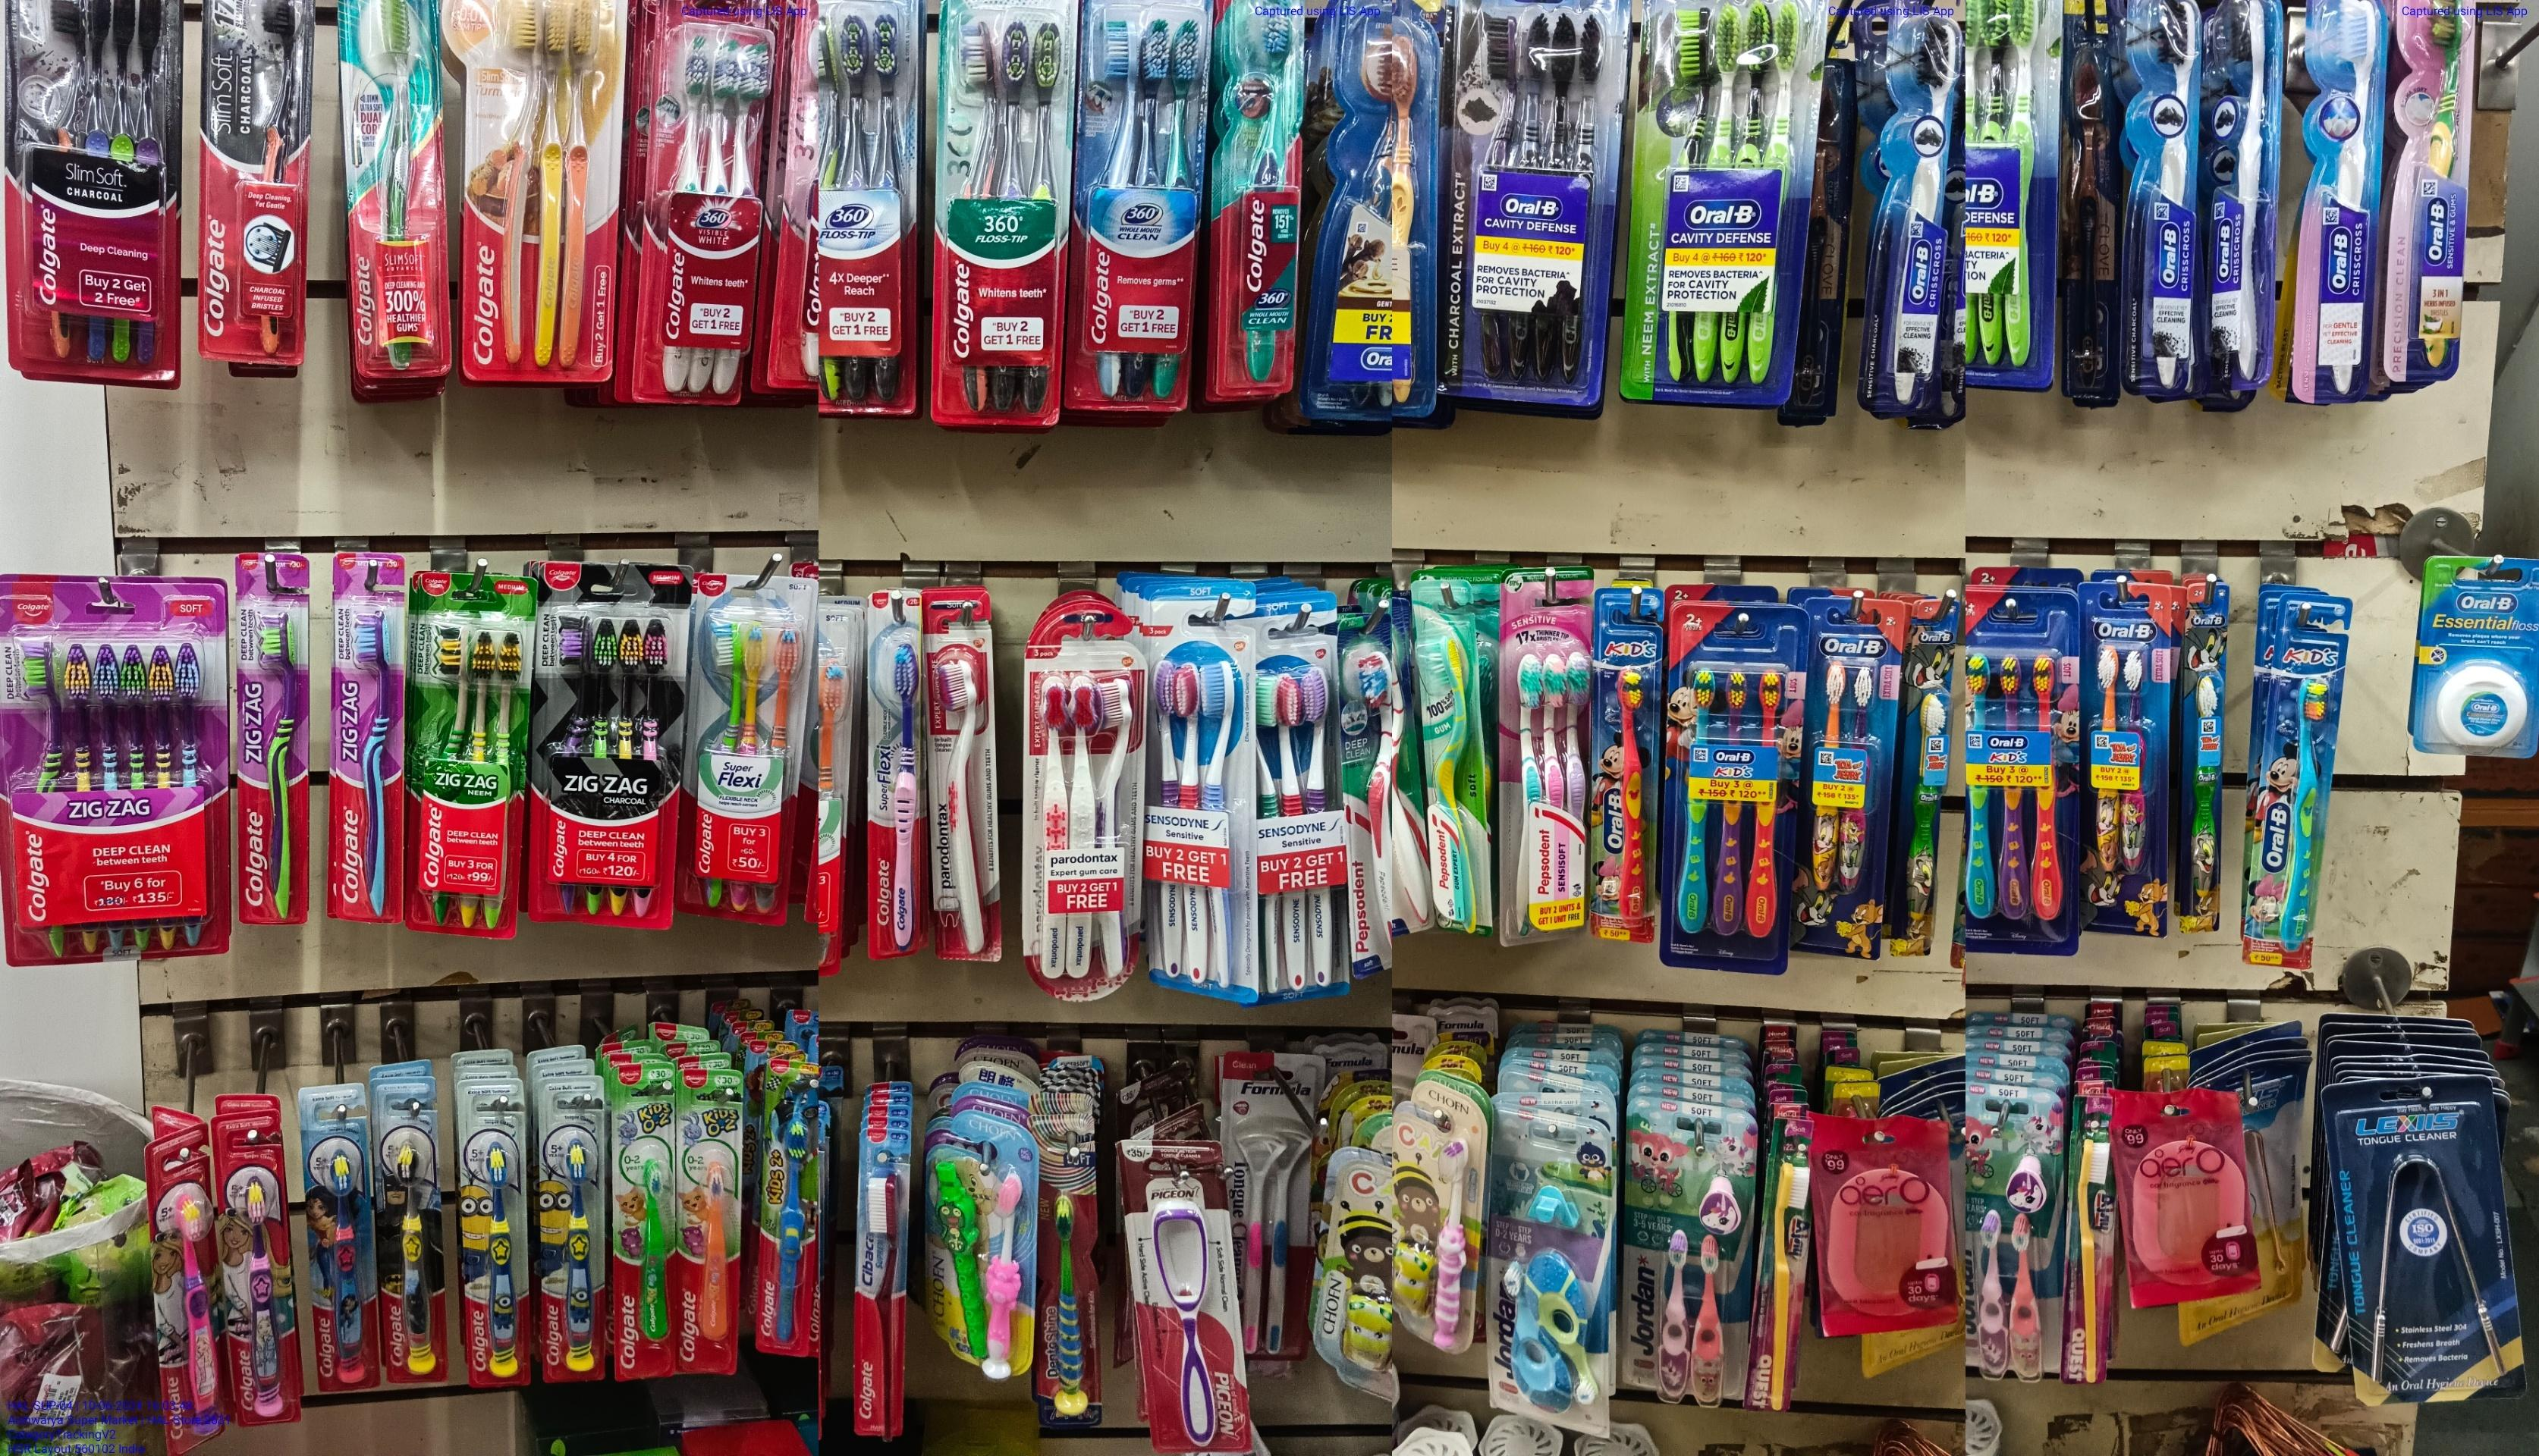12: (1501, 575, 1580, 943)
liquid soap: (534, 561, 675, 929)
soap: (199, 0, 305, 363)
